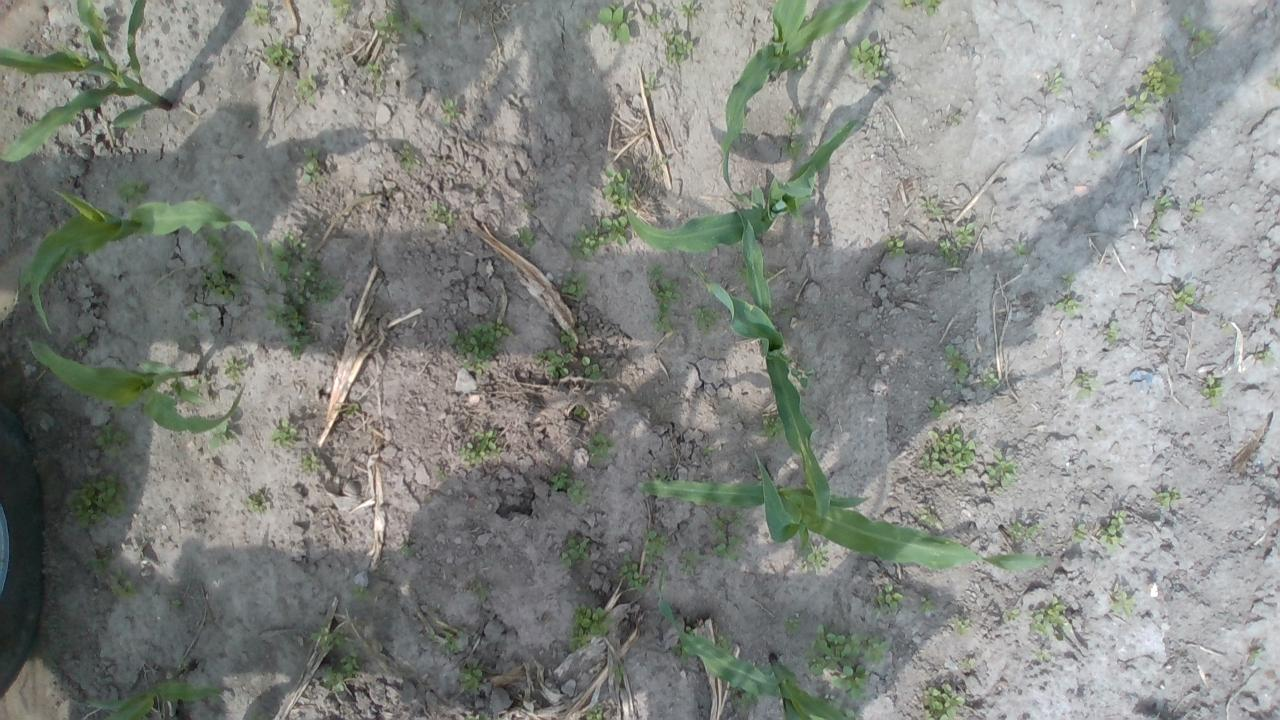Maize: (633, 448, 1054, 573), (694, 199, 835, 527), (15, 185, 266, 337), (627, 115, 860, 255), (719, 0, 878, 204), (656, 560, 858, 720), (0, 0, 173, 164), (22, 338, 242, 432), (83, 659, 225, 720)
Weeds: (805, 624, 892, 700), (268, 230, 346, 307), (444, 312, 510, 377), (64, 472, 131, 531), (308, 618, 361, 692), (194, 232, 247, 303), (264, 301, 314, 360), (918, 428, 976, 478), (568, 213, 628, 260), (567, 603, 617, 652), (709, 509, 749, 562), (1028, 597, 1072, 641), (546, 462, 590, 506), (1142, 56, 1184, 102), (848, 37, 889, 80), (650, 278, 682, 332), (919, 683, 964, 720), (458, 426, 498, 466), (600, 167, 636, 210), (95, 422, 132, 461), (986, 450, 1018, 494), (596, 4, 631, 44), (778, 112, 806, 160), (260, 36, 296, 72), (1098, 510, 1128, 552), (423, 198, 460, 232), (535, 346, 572, 380), (944, 343, 970, 390), (619, 554, 651, 592), (586, 427, 616, 467), (639, 526, 670, 564), (79, 8, 108, 47), (661, 32, 694, 66), (558, 536, 592, 569), (372, 8, 404, 43), (871, 583, 902, 618), (1124, 90, 1155, 122), (1200, 372, 1226, 408), (109, 568, 136, 602), (824, 694, 859, 720), (458, 659, 484, 694), (269, 418, 298, 449), (693, 306, 721, 338), (302, 146, 324, 186), (1110, 584, 1135, 617), (114, 178, 148, 202), (1006, 519, 1043, 541), (558, 270, 587, 298), (936, 238, 962, 269), (395, 142, 422, 171), (676, 544, 700, 576), (758, 415, 786, 442), (293, 73, 318, 103), (729, 686, 760, 710), (244, 0, 272, 26), (1073, 372, 1099, 400), (789, 360, 813, 390), (1042, 67, 1067, 95), (438, 97, 461, 127), (560, 324, 586, 350), (1055, 297, 1084, 320), (364, 60, 384, 93), (899, 0, 943, 15), (442, 630, 468, 655), (806, 543, 830, 570), (208, 420, 229, 450), (512, 224, 538, 248), (1173, 284, 1195, 312), (581, 355, 604, 381), (882, 234, 906, 258), (88, 550, 112, 574), (1188, 29, 1212, 53), (222, 357, 247, 380), (928, 396, 951, 421), (917, 197, 943, 219), (953, 221, 974, 248), (1152, 488, 1180, 508), (244, 491, 268, 514), (780, 614, 804, 636), (919, 507, 942, 529), (329, 0, 352, 21), (611, 664, 629, 688), (1154, 194, 1172, 217), (670, 640, 690, 660), (981, 369, 1000, 390), (406, 12, 424, 34), (186, 306, 210, 322), (188, 376, 208, 395), (1255, 348, 1276, 366), (791, 55, 810, 74), (678, 0, 698, 18), (1071, 523, 1088, 544), (642, 75, 658, 97), (300, 453, 318, 472), (73, 332, 91, 350), (1092, 120, 1110, 138), (716, 633, 733, 652), (350, 585, 370, 601), (1190, 198, 1206, 218), (643, 12, 662, 28), (646, 263, 662, 282), (1146, 220, 1160, 240), (1105, 320, 1117, 343), (919, 596, 935, 613), (475, 582, 490, 600), (736, 265, 750, 284), (650, 470, 674, 481), (650, 156, 666, 172), (587, 704, 603, 720), (956, 618, 970, 636), (1002, 608, 1020, 622), (1180, 13, 1194, 30), (573, 404, 588, 419), (1061, 270, 1075, 286), (1015, 242, 1028, 259), (1086, 148, 1104, 160), (1036, 648, 1051, 662), (578, 19, 594, 32), (1269, 68, 1280, 86), (170, 598, 184, 612), (262, 281, 274, 297), (400, 542, 413, 556), (463, 713, 489, 720), (517, 200, 534, 210), (1248, 648, 1262, 660), (434, 466, 445, 480), (349, 402, 360, 415), (701, 446, 715, 456), (780, 304, 794, 314), (762, 268, 774, 279), (1220, 322, 1232, 332), (950, 114, 960, 126), (247, 715, 271, 720), (428, 632, 438, 642), (684, 626, 694, 634), (1276, 303, 1280, 318), (1096, 429, 1104, 436)
